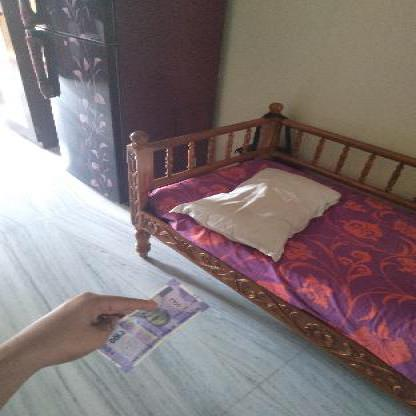New100Front: (106, 281, 202, 361)
